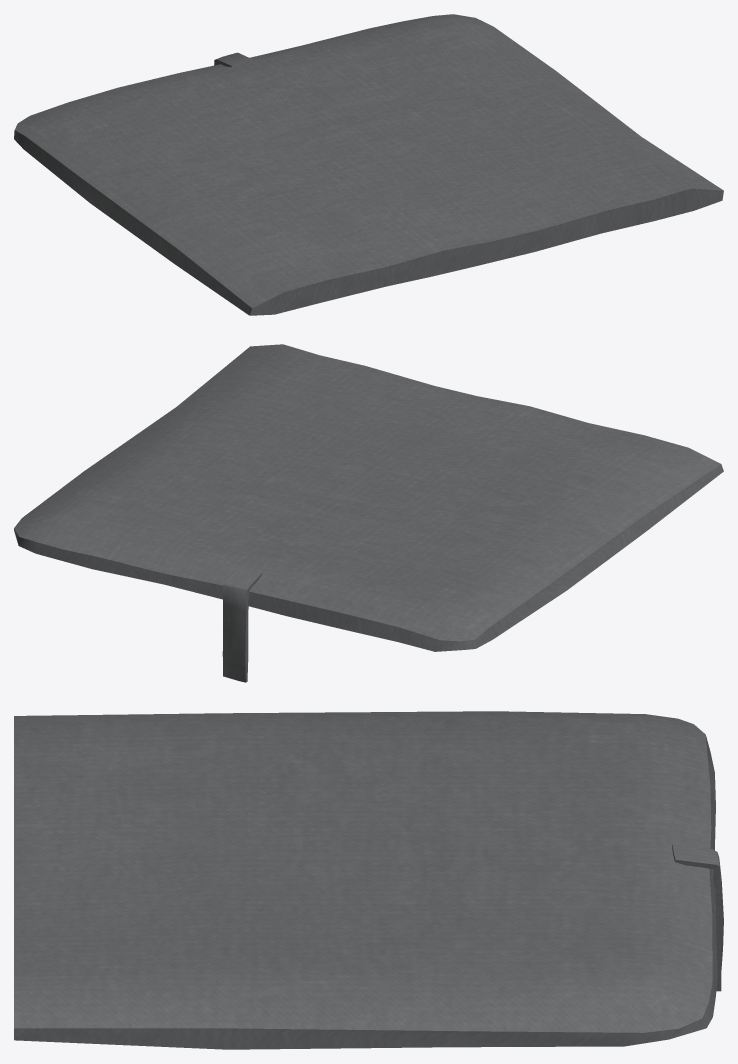
Rendered from SM_ClothBasket_A1_DoorB.fbx.
3 renders of one model, top to bottom at view 1: azimuth 30°, elevation 25°; view 2: azimuth 150°, elevation 25°; view 3: azimuth 270°, elevation 25°, orthographic. The views are drawn at different scales.
Parts seen in each view (by area): view 1: SM_ClothBasket_A1_DoorB; view 2: SM_ClothBasket_A1_DoorB; view 3: SM_ClothBasket_A1_DoorB.
Boxes of the visible parts, x1,y1,x2,y2 form: SM_ClothBasket_A1_DoorB: (14,14,723,315); SM_ClothBasket_A1_DoorB: (14,344,723,682); SM_ClothBasket_A1_DoorB: (14,711,723,1049).
Size of the model in its own units: 45.94 by 43.3 by 9.21.
1 material, 1 textured.
